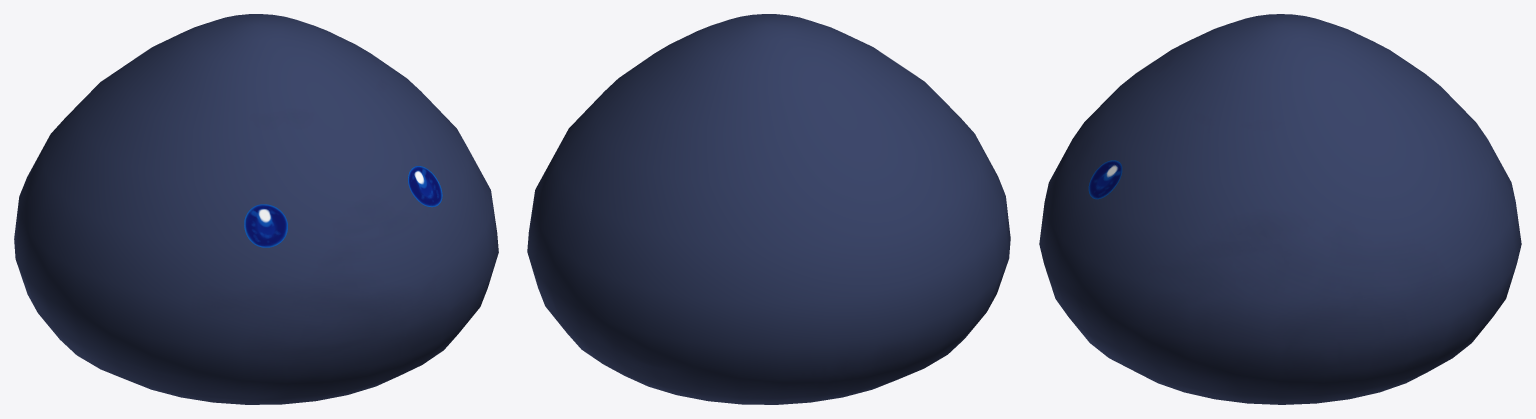
File: slime_black.gltf
3 views of the same model, side by side, from view 1: azimuth 30°, elevation 25°; view 2: azimuth 150°, elevation 25°; view 3: azimuth 270°, elevation 25° (orthographic).
Visible parts, largest first — view 1: Slime_Slime_0; view 2: Slime_Slime_0; view 3: Slime_Slime_0.
Part boxes in pixels (x1,y1,x2,y2): Slime_Slime_0: [14, 14, 498, 404]; Slime_Slime_0: [527, 14, 1010, 404]; Slime_Slime_0: [1039, 14, 1521, 404].
Bounding box in the file's own units: 1.03 × 0.7421 × 1.03.
Materials: 1 (1 with a texture image).
